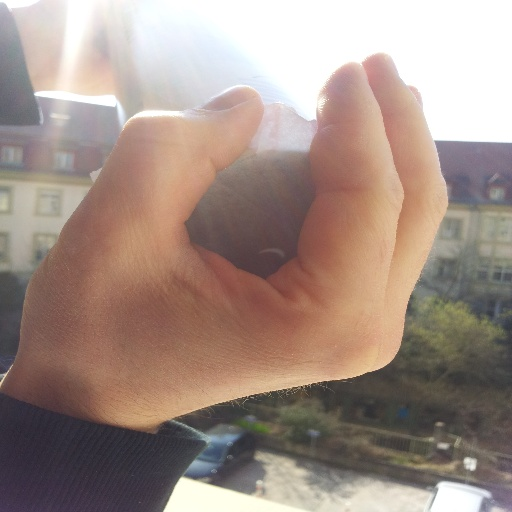hand: (23, 47, 452, 426)
